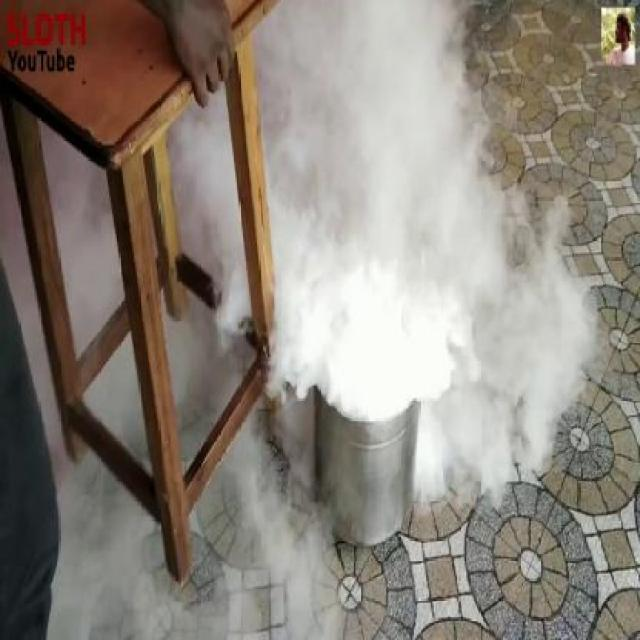smoke: (309, 89, 568, 462)
